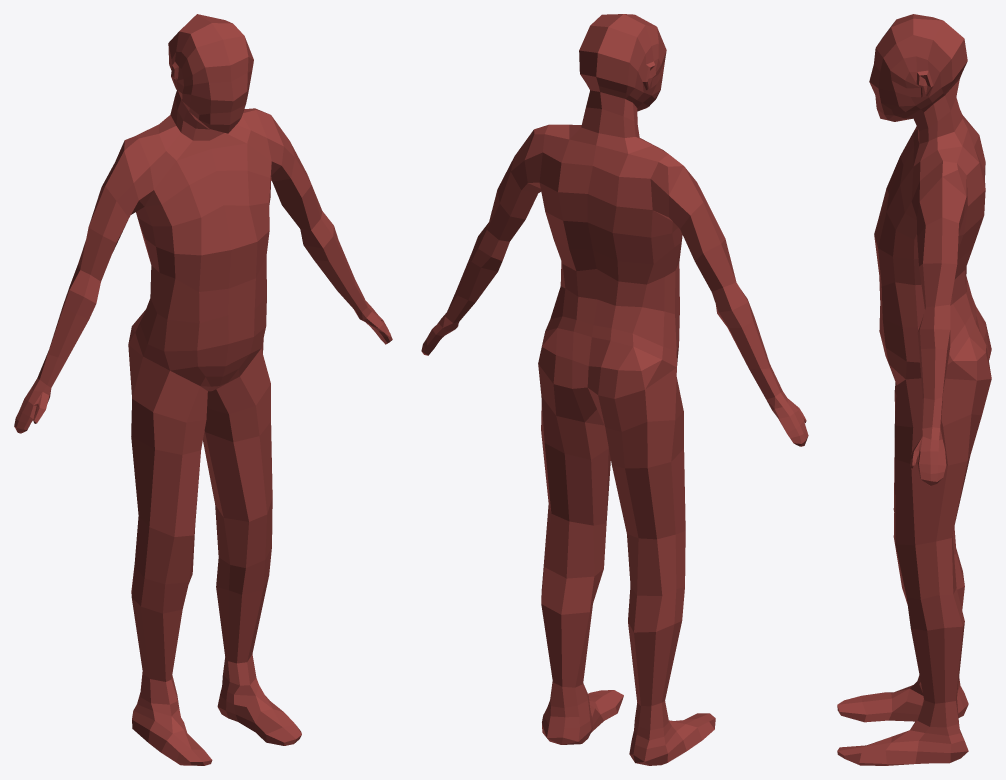
Rendered from man.fbx.
The picture shows the model from 3 angles, left to right: view 1: azimuth 30°, elevation 25°; view 2: azimuth 150°, elevation 25°; view 3: azimuth 270°, elevation 25°; orthographic projection. The views are drawn at different scales.
Parts seen in each view (by area): view 1: Man; view 2: Man; view 3: Man.
Boxes of the visible parts, x1,y1,x2,y2 form: Man: (14,14,392,765); Man: (421,14,808,765); Man: (837,14,991,765).
Size of the model in its own units: 94.43 by 172 by 33.39.
